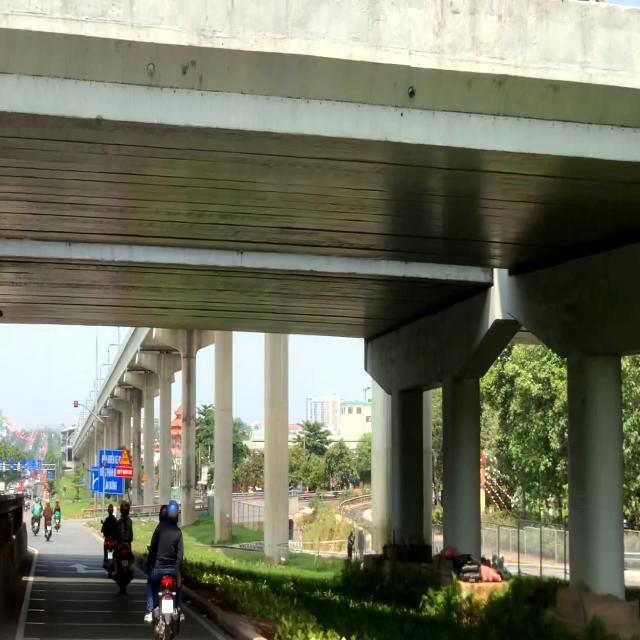Di cham: (119, 446, 131, 466)
